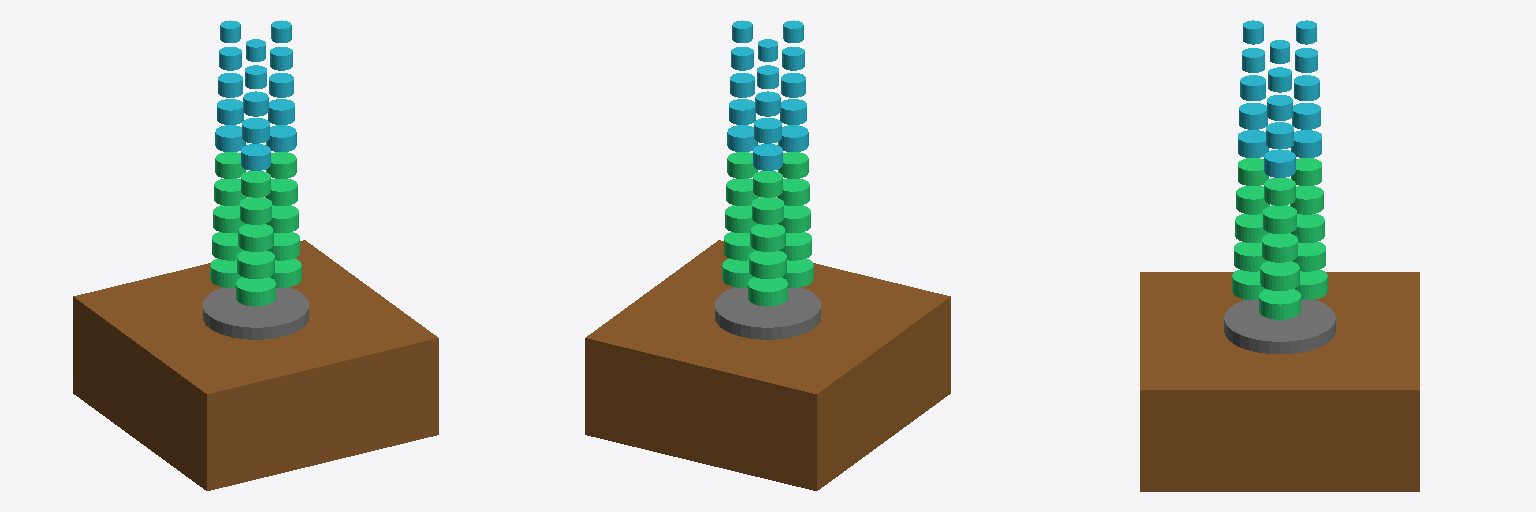
--- What the picture shows (computed from the rendered views, not written in the file) ---
3 views of the same robot in one strip: view 1: azimuth 30°, elevation 25°; view 2: azimuth 150°, elevation 25°; view 3: azimuth 270°, elevation 25° (orthographic).
Model two_segment_gripper with 65 links and 64 joints (30 revolute, 34 fixed), rooted at base_link, posed every joint at zero.
Visible links, largest first — view 1: base_link, gripper_base, finger3_seg1_disc, finger3_seg2_disc, finger3_seg3_disc, finger3_seg4_disc, finger3_seg5_disc, finger3_seg6_disc, finger1_seg1_disc, finger2_seg1_disc, finger1_seg3_disc, finger2_seg3_disc (+14 smaller); view 2: base_link, gripper_base, finger2_seg1_disc, finger2_seg2_disc, finger2_seg3_disc, finger2_seg4_disc, finger2_seg5_disc, finger2_seg6_disc, finger1_seg1_disc, finger3_seg1_disc, finger1_seg3_disc, finger3_seg3_disc (+14 smaller); view 3: base_link, gripper_base, finger1_seg1_disc, finger1_seg2_disc, finger1_seg3_disc, finger1_seg4_disc, finger1_seg6_disc, finger1_seg5_disc, finger2_seg2_disc, finger3_seg2_disc, finger2_seg3_disc, finger3_seg3_disc (+17 smaller).
Link boxes in pixels (left/top/right/bottom): base_link: left=73, top=240, right=438, bottom=490; gripper_base: left=203, top=287, right=308, bottom=339; finger3_seg1_disc: left=236, top=277, right=275, bottom=306; finger3_seg2_disc: left=237, top=251, right=274, bottom=278; finger3_seg3_disc: left=238, top=224, right=273, bottom=251; finger3_seg4_disc: left=240, top=197, right=271, bottom=224; finger3_seg5_disc: left=241, top=171, right=270, bottom=197; finger3_seg6_disc: left=241, top=144, right=270, bottom=170; finger1_seg1_disc: left=270, top=258, right=301, bottom=287; finger2_seg1_disc: left=210, top=258, right=241, bottom=287; finger1_seg3_disc: left=266, top=205, right=298, bottom=232; finger2_seg3_disc: left=213, top=205, right=245, bottom=232; base_link: left=585, top=240, right=950, bottom=490; gripper_base: left=715, top=287, right=820, bottom=339; finger2_seg1_disc: left=748, top=277, right=787, bottom=306; finger2_seg2_disc: left=749, top=251, right=786, bottom=278; finger2_seg3_disc: left=750, top=224, right=785, bottom=251; finger2_seg4_disc: left=752, top=197, right=783, bottom=224; finger2_seg5_disc: left=753, top=171, right=782, bottom=197; finger2_seg6_disc: left=753, top=144, right=782, bottom=170; finger1_seg1_disc: left=722, top=258, right=753, bottom=287; finger3_seg1_disc: left=782, top=258, right=813, bottom=287; finger1_seg3_disc: left=725, top=205, right=757, bottom=232; finger3_seg3_disc: left=778, top=205, right=810, bottom=232; base_link: left=1140, top=272, right=1419, bottom=491; gripper_base: left=1224, top=300, right=1335, bottom=353; finger1_seg1_disc: left=1259, top=289, right=1300, bottom=319; finger1_seg2_disc: left=1260, top=261, right=1299, bottom=290; finger1_seg3_disc: left=1262, top=233, right=1297, bottom=262; finger1_seg4_disc: left=1263, top=205, right=1296, bottom=233; finger1_seg6_disc: left=1264, top=149, right=1295, bottom=177; finger1_seg5_disc: left=1264, top=178, right=1295, bottom=205; finger2_seg2_disc: left=1293, top=242, right=1325, bottom=271; finger3_seg2_disc: left=1234, top=242, right=1266, bottom=271; finger2_seg3_disc: left=1291, top=214, right=1324, bottom=242; finger3_seg3_disc: left=1235, top=214, right=1268, bottom=242.
Bounding box of the posed robot: 0.2 × 0.2 × 0.316 m (x, y, z).
Geometry: primitives only (box / cylinder / sphere), no mesh files.

The robot description file, URDF, robot "two_segment_gripper":
<?xml version="1.0" ?>
<!-- =================================================================================== -->
<!-- |    This document was autogenerated by xacro from two_segment_gripper.xacro      | -->
<!-- |    EDITING THIS FILE BY HAND IS NOT RECOMMENDED                                 | -->
<!-- =================================================================================== -->
<robot name="two_segment_gripper">
  <!-- 12mm disc thickness -->
  <!-- 22mm from center -->
  <!-- Base Link -->
  <link name="base_link">
    <visual>
      <origin rpy="0 0 0" xyz="0 0 0.04"/>
      <geometry>
        <box size="0.2 0.2 0.08"/>
      </geometry>
      <material name="brown">
        <color rgba="0.6 0.4 0.2 1.0"/>
      </material>
    </visual>
    <collision>
      <origin rpy="0 0 0" xyz="0 0 0.04"/>
      <geometry>
        <box size="0.2 0.2 0.08"/>
      </geometry>
    </collision>
    <inertial>
      <origin rpy="0 0 0" xyz="0 0 0.04"/>
      <mass value="2.0"/>
      <inertia ixx="0.01" ixy="0" ixz="0" iyy="0.01" iyz="0" izz="0.01"/>
    </inertial>
  </link>
  <!-- Gripper Base -->
  <joint name="base_to_gripper" type="fixed">
    <parent link="base_link"/>
    <child link="gripper_base"/>
    <origin rpy="0 0 0" xyz="0 0 0.08"/>
  </joint>
  <link name="gripper_base">
    <visual>
      <origin rpy="0 0 0" xyz="0 0 0.005"/>
      <geometry>
        <cylinder length="0.01" radius="0.04"/>
      </geometry>
      <material name="gray">
        <color rgba="0.5 0.5 0.5 1.0"/>
      </material>
    </visual>
    <inertial>
      <mass value="0.2"/>
      <inertia ixx="0.0001" ixy="0" ixz="0" iyy="0.0001" iyz="0" izz="0.0001"/>
    </inertial>
  </link>
  <!-- ===== FINGER 1 (at 0°) ===== -->
  <joint name="finger1_mount" type="fixed">
    <parent link="gripper_base"/>
    <child link="finger1_base"/>
    <origin rpy="0 0 0" xyz="0.022 0 0.01"/>
  </joint>
  <link name="finger1_base">
    <inertial>
      <mass value="0.01"/>
      <inertia ixx="0.00001" ixy="0" ixz="0" iyy="0.00001" iyz="0" izz="0.00001"/>
    </inertial>
  </link>
  <!-- Revolute Joint -->
  <joint name="finger1_seg1_joint" type="revolute">
    <parent link="finger1_base"/>
    <child link="finger1_seg1_link"/>
    <origin rpy="0 0 0" xyz="0 0 0"/>
    <axis xyz="0 1 0"/>
    <limit effort="50" lower="-0.0175" upper="0.2094" velocity="1.0"/>
    <dynamics damping="0.5" friction="0.0"/>
  </joint>
  <link name="finger1_seg1_link">
    <inertial>
      <origin rpy="0 0 0" xyz="0 0 0"/>
      <mass value="0.01"/>
      <inertia ixx="0.00001" ixy="0" ixz="0" iyy="0.00001" iyz="0" izz="0.00001"/>
    </inertial>
  </link>
  <!-- Fixed H distance to disc -->
  <joint name="finger1_seg1_fixed" type="fixed">
    <parent link="finger1_seg1_link"/>
    <child link="finger1_seg1_disc"/>
    <origin rpy="0 0 0" xyz="0 0 0.022"/>
  </joint>
  <!-- Disc -->
  <link name="finger1_seg1_disc">
    <visual>
      <origin rpy="0 0 0" xyz="0 0 0"/>
      <geometry>
        <cylinder length="0.012" radius="0.015"/>
      </geometry>
      <material name="finger_seg1_mat">
        <color rgba="0.2 0.9 0.5 1.0"/>
      </material>
    </visual>
    <collision>
      <origin rpy="0 0 0" xyz="0 0 0"/>
      <geometry>
        <cylinder length="0.012" radius="0.015"/>
      </geometry>
    </collision>
    <inertial>
      <origin rpy="0 0 0" xyz="0 0 0"/>
      <mass value="0.1"/>
      <inertia ixx="0.0001" ixy="0" ixz="0" iyy="0.0001" iyz="0" izz="0.0001"/>
    </inertial>
  </link>
  <!-- Revolute Joint -->
  <joint name="finger1_seg2_joint" type="revolute">
    <parent link="finger1_seg1_disc"/>
    <child link="finger1_seg2_link"/>
    <origin rpy="0 0 0" xyz="0 0 0"/>
    <axis xyz="0 1 0"/>
    <limit effort="50" lower="-0.0175" upper="0.2094" velocity="1.0"/>
    <mimic joint="finger1_seg1_joint" multiplier="1.0" offset="0.0"/>
    <dynamics damping="0.1" friction="0.0"/>
  </joint>
  <link name="finger1_seg2_link">
    <inertial>
      <origin rpy="0 0 0" xyz="0 0 0"/>
      <mass value="0.01"/>
      <inertia ixx="0.00001" ixy="0" ixz="0" iyy="0.00001" iyz="0" izz="0.00001"/>
    </inertial>
  </link>
  <!-- Fixed H distance to disc -->
  <joint name="finger1_seg2_fixed" type="fixed">
    <parent link="finger1_seg2_link"/>
    <child link="finger1_seg2_disc"/>
    <origin rpy="0 0 0" xyz="0 0 0.022"/>
  </joint>
  <!-- Disc -->
  <link name="finger1_seg2_disc">
    <visual>
      <origin rpy="0 0 0" xyz="0 0 0"/>
      <geometry>
        <cylinder length="0.012" radius="0.014062499999999999"/>
      </geometry>
      <material name="finger_seg2_mat">
        <color rgba="0.2 0.9 0.5 1.0"/>
      </material>
    </visual>
    <collision>
      <origin rpy="0 0 0" xyz="0 0 0"/>
      <geometry>
        <cylinder length="0.012" radius="0.014062499999999999"/>
      </geometry>
    </collision>
    <inertial>
      <origin rpy="0 0 0" xyz="0 0 0"/>
      <mass value="0.1"/>
      <inertia ixx="0.0001" ixy="0" ixz="0" iyy="0.0001" iyz="0" izz="0.0001"/>
    </inertial>
  </link>
  <!-- Revolute Joint -->
  <joint name="finger1_seg3_joint" type="revolute">
    <parent link="finger1_seg2_disc"/>
    <child link="finger1_seg3_link"/>
    <origin rpy="0 0 0" xyz="0 0 0"/>
    <axis xyz="0 1 0"/>
    <limit effort="50" lower="-0.0175" upper="0.2094" velocity="1.0"/>
    <mimic joint="finger1_seg1_joint" multiplier="1.0" offset="0.0"/>
    <dynamics damping="0.1" friction="0.0"/>
  </joint>
  <link name="finger1_seg3_link">
    <inertial>
      <origin rpy="0 0 0" xyz="0 0 0"/>
      <mass value="0.01"/>
      <inertia ixx="0.00001" ixy="0" ixz="0" iyy="0.00001" iyz="0" izz="0.00001"/>
    </inertial>
  </link>
  <!-- Fixed H distance to disc -->
  <joint name="finger1_seg3_fixed" type="fixed">
    <parent link="finger1_seg3_link"/>
    <child link="finger1_seg3_disc"/>
    <origin rpy="0 0 0" xyz="0 0 0.022"/>
  </joint>
  <!-- Disc -->
  <link name="finger1_seg3_disc">
    <visual>
      <origin rpy="0 0 0" xyz="0 0 0"/>
      <geometry>
        <cylinder length="0.012" radius="0.013125"/>
      </geometry>
      <material name="finger_seg3_mat">
        <color rgba="0.2 0.9 0.5 1.0"/>
      </material>
    </visual>
    <collision>
      <origin rpy="0 0 0" xyz="0 0 0"/>
      <geometry>
        <cylinder length="0.012" radius="0.013125"/>
      </geometry>
    </collision>
    <inertial>
      <origin rpy="0 0 0" xyz="0 0 0"/>
      <mass value="0.1"/>
      <inertia ixx="0.0001" ixy="0" ixz="0" iyy="0.0001" iyz="0" izz="0.0001"/>
    </inertial>
  </link>
  <!-- Revolute Joint -->
  <joint name="finger1_seg4_joint" type="revolute">
    <parent link="finger1_seg3_disc"/>
    <child link="finger1_seg4_link"/>
    <origin rpy="0 0 0" xyz="0 0 0"/>
    <axis xyz="0 1 0"/>
    <limit effort="50" lower="-0.0175" upper="0.2094" velocity="1.0"/>
    <mimic joint="finger1_seg1_joint" multiplier="1.0" offset="0.0"/>
    <dynamics damping="0.1" friction="0.0"/>
  </joint>
  <link name="finger1_seg4_link">
    <inertial>
      <origin rpy="0 0 0" xyz="0 0 0"/>
      <mass value="0.01"/>
      <inertia ixx="0.00001" ixy="0" ixz="0" iyy="0.00001" iyz="0" izz="0.00001"/>
    </inertial>
  </link>
  <!-- Fixed H distance to disc -->
  <joint name="finger1_seg4_fixed" type="fixed">
    <parent link="finger1_seg4_link"/>
    <child link="finger1_seg4_disc"/>
    <origin rpy="0 0 0" xyz="0 0 0.022"/>
  </joint>
  <!-- Disc -->
  <link name="finger1_seg4_disc">
    <visual>
      <origin rpy="0 0 0" xyz="0 0 0"/>
      <geometry>
        <cylinder length="0.012" radius="0.0121875"/>
      </geometry>
      <material name="finger_seg4_mat">
        <color rgba="0.2 0.9 0.5 1.0"/>
      </material>
    </visual>
    <collision>
      <origin rpy="0 0 0" xyz="0 0 0"/>
      <geometry>
        <cylinder length="0.012" radius="0.0121875"/>
      </geometry>
    </collision>
    <inertial>
      <origin rpy="0 0 0" xyz="0 0 0"/>
      <mass value="0.1"/>
      <inertia ixx="0.0001" ixy="0" ixz="0" iyy="0.0001" iyz="0" izz="0.0001"/>
    </inertial>
  </link>
  <!-- Revolute Joint -->
  <joint name="finger1_seg5_joint" type="revolute">
    <parent link="finger1_seg4_disc"/>
    <child link="finger1_seg5_link"/>
    <origin rpy="0 0 0" xyz="0 0 0"/>
    <axis xyz="0 1 0"/>
    <limit effort="50" lower="-0.0175" upper="0.2094" velocity="1.0"/>
    <mimic joint="finger1_seg1_joint" multiplier="1.0" offset="0.0"/>
    <dynamics damping="0.1" friction="0.0"/>
  </joint>
  <link name="finger1_seg5_link">
    <inertial>
      <origin rpy="0 0 0" xyz="0 0 0"/>
      <mass value="0.01"/>
      <inertia ixx="0.00001" ixy="0" ixz="0" iyy="0.00001" iyz="0" izz="0.00001"/>
    </inertial>
  </link>
  <!-- Fixed H distance to disc -->
  <joint name="finger1_seg5_fixed" type="fixed">
    <parent link="finger1_seg5_link"/>
    <child link="finger1_seg5_disc"/>
    <origin rpy="0 0 0" xyz="0 0 0.022"/>
  </joint>
  <!-- Disc -->
  <link name="finger1_seg5_disc">
    <visual>
      <origin rpy="0 0 0" xyz="0 0 0"/>
      <geometry>
        <cylinder length="0.012" radius="0.01125"/>
      </geometry>
      <material name="finger_seg5_mat">
        <color rgba="0.2 0.9 0.5 1.0"/>
      </material>
    </visual>
    <collision>
      <origin rpy="0 0 0" xyz="0 0 0"/>
      <geometry>
        <cylinder length="0.012" radius="0.01125"/>
      </geometry>
    </collision>
    <inertial>
      <origin rpy="0 0 0" xyz="0 0 0"/>
      <mass value="0.1"/>
      <inertia ixx="0.0001" ixy="0" ixz="0" iyy="0.0001" iyz="0" izz="0.0001"/>
    </inertial>
  </link>
  <!-- Revolute Joint -->
  <joint name="finger1_seg6_joint" type="revolute">
    <parent link="finger1_seg5_disc"/>
    <child link="finger1_seg6_link"/>
    <origin rpy="0 0 0" xyz="0 0 0"/>
    <axis xyz="0 1 0"/>
    <limit effort="50" lower="-0.1047" upper="0.2094" velocity="1.0"/>
    <dynamics damping="0.5" friction="0.0"/>
  </joint>
  <link name="finger1_seg6_link">
    <inertial>
      <origin rpy="0 0 0" xyz="0 0 0"/>
      <mass value="0.01"/>
      <inertia ixx="0.00001" ixy="0" ixz="0" iyy="0.00001" iyz="0" izz="0.00001"/>
    </inertial>
  </link>
  <!-- Fixed H distance to disc -->
  <joint name="finger1_seg6_fixed" type="fixed">
    <parent link="finger1_seg6_link"/>
    <child link="finger1_seg6_disc"/>
    <origin rpy="0 0 0" xyz="0 0 0.022"/>
  </joint>
  <!-- Disc -->
  <link name="finger1_seg6_disc">
    <visual>
      <origin rpy="0 0 0" xyz="0 0 0"/>
      <geometry>
        <cylinder length="0.012" radius="0.01125"/>
      </geometry>
      <material name="finger_seg6_mat">
        <color rgba="0.2 0.8 0.9 1.0"/>
      </material>
    </visual>
    <collision>
      <origin rpy="0 0 0" xyz="0 0 0"/>
      <geometry>
        <cylinder length="0.012" radius="0.01125"/>
      </geometry>
    </collision>
    <inertial>
      <origin rpy="0 0 0" xyz="0 0 0"/>
      <mass value="0.1"/>
      <inertia ixx="0.0001" ixy="0" ixz="0" iyy="0.0001" iyz="0" izz="0.0001"/>
    </inertial>
  </link>
  <!-- Revolute Joint -->
  <joint name="finger1_seg7_joint" type="revolute">
    <parent link="finger1_seg6_disc"/>
    <child link="finger1_seg7_link"/>
    <origin rpy="0 0 0" xyz="0 0 0"/>
    <axis xyz="0 1 0"/>
    <limit effort="50" lower="-0.1047" upper="0.2094" velocity="1.0"/>
    <mimic joint="finger1_seg6_joint" multiplier="1.0" offset="0.0"/>
    <dynamics damping="0.1" friction="0.0"/>
  </joint>
  <link name="finger1_seg7_link">
    <inertial>
      <origin rpy="0 0 0" xyz="0 0 0"/>
      <mass value="0.01"/>
      <inertia ixx="0.00001" ixy="0" ixz="0" iyy="0.00001" iyz="0" izz="0.00001"/>
    </inertial>
  </link>
  <!-- Fixed H distance to disc -->
  <joint name="finger1_seg7_fixed" type="fixed">
    <parent link="finger1_seg7_link"/>
    <child link="finger1_seg7_disc"/>
    <origin rpy="0 0 0" xyz="0 0 0.022"/>
  </joint>
  <!-- Disc -->
  <link name="finger1_seg7_disc">
    <visual>
      <origin rpy="0 0 0" xyz="0 0 0"/>
      <geometry>
        <cylinder length="0.012" radius="0.010312499999999999"/>
      </geometry>
      <material name="finger_seg7_mat">
        <color rgba="0.2 0.8 0.9 1.0"/>
      </material>
    </visual>
    <collision>
      <origin rpy="0 0 0" xyz="0 0 0"/>
      <geometry>
        <cylinder length="0.012" radius="0.010312499999999999"/>
      </geometry>
    </collision>
    <inertial>
      <origin rpy="0 0 0" xyz="0 0 0"/>
      <mass value="0.1"/>
      <inertia ixx="0.0001" ixy="0" ixz="0" iyy="0.0001" iyz="0" izz="0.0001"/>
    </inertial>
  </link>
  <!-- Revolute Joint -->
  <joint name="finger1_seg8_joint" type="revolute">
    <parent link="finger1_seg7_disc"/>
    <child link="finger1_seg8_link"/>
    <origin rpy="0 0 0" xyz="0 0 0"/>
    <axis xyz="0 1 0"/>
    <limit effort="50" lower="-0.1047" upper="0.2094" velocity="1.0"/>
    <mimic joint="finger1_seg6_joint" multiplier="1.0" offset="0.0"/>
    <dynamics damping="0.1" friction="0.0"/>
  </joint>
  <link name="finger1_seg8_link">
    <inertial>
      <origin rpy="0 0 0" xyz="0 0 0"/>
      <mass value="0.01"/>
      <inertia ixx="0.00001" ixy="0" ixz="0" iyy="0.00001" iyz="0" izz="0.00001"/>
    </inertial>
  </link>
  <!-- Fixed H distance to disc -->
  <joint name="finger1_seg8_fixed" type="fixed">
    <parent link="finger1_seg8_link"/>
    <child link="finger1_seg8_disc"/>
    <origin rpy="0 0 0" xyz="0 0 0.022"/>
  </joint>
  <!-- Disc -->
  <link name="finger1_seg8_disc">
    <visual>
      <origin rpy="0 0 0" xyz="0 0 0"/>
      <geometry>
        <cylinder length="0.012" radius="0.009375"/>
      </geometry>
      <material name="finger_seg8_mat">
        <color rgba="0.2 0.8 0.9 1.0"/>
      </material>
    </visual>
    <collision>
      <origin rpy="0 0 0" xyz="0 0 0"/>
      <geometry>
        <cylinder length="0.012" radius="0.009375"/>
      </geometry>
    </collision>
    <inertial>
      <origin rpy="0 0 0" xyz="0 0 0"/>
      <mass value="0.1"/>
      <inertia ixx="0.0001" ixy="0" ixz="0" iyy="0.0001" iyz="0" izz="0.0001"/>
    </inertial>
  </link>
  <!-- Revolute Joint -->
  <joint name="finger1_seg9_joint" type="revolute">
    <parent link="finger1_seg8_disc"/>
    <child link="finger1_seg9_link"/>
    <origin rpy="0 0 0" xyz="0 0 0"/>
    <axis xyz="0 1 0"/>
    <limit effort="50" lower="-0.1047" upper="0.2094" velocity="1.0"/>
    <mimic joint="finger1_seg6_joint" multiplier="1.0" offset="0.0"/>
    <dynamics damping="0.1" friction="0.0"/>
  </joint>
  <link name="finger1_seg9_link">
    <inertial>
      <origin rpy="0 0 0" xyz="0 0 0"/>
      <mass value="0.01"/>
      <inertia ixx="0.00001" ixy="0" ixz="0" iyy="0.00001" iyz="0" izz="0.00001"/>
    </inertial>
  </link>
  <!-- Fixed H distance to disc -->
  <joint name="finger1_seg9_fixed" type="fixed">
    <parent link="finger1_seg9_link"/>
    <child link="finger1_seg9_disc"/>
    <origin rpy="0 0 0" xyz="0 0 0.022"/>
  </joint>
  <!-- Disc -->
  <link name="finger1_seg9_disc">
    <visual>
      <origin rpy="0 0 0" xyz="0 0 0"/>
      <geometry>
        <cylinder length="0.012" radius="0.0084375"/>
      </geometry>
      <material name="finger_seg9_mat">
        <color rgba="0.2 0.8 0.9 1.0"/>
      </material>
    </visual>
    <collision>
      <origin rpy="0 0 0" xyz="0 0 0"/>
      <geometry>
        <cylinder length="0.012" radius="0.0084375"/>
      </geometry>
    </collision>
    <inertial>
      <origin rpy="0 0 0" xyz="0 0 0"/>
      <mass value="0.1"/>
      <inertia ixx="0.0001" ixy="0" ixz="0" iyy="0.0001" iyz="0" izz="0.0001"/>
    </inertial>
  </link>
  <!-- Revolute Joint -->
  <joint name="finger1_seg10_joint" type="revolute">
    <parent link="finger1_seg9_disc"/>
    <child link="finger1_seg10_link"/>
    <origin rpy="0 0 0" xyz="0 0 0"/>
    <axis xyz="0 1 0"/>
    <limit effort="50" lower="-0.1047" upper="0.2094" velocity="1.0"/>
    <mimic joint="finger1_seg6_joint" multiplier="1.0" offset="0.0"/>
    <dynamics damping="0.1" friction="0.0"/>
  </joint>
  <link name="finger1_seg10_link">
    <inertial>
      <origin rpy="0 0 0" xyz="0 0 0"/>
      <mass value="0.01"/>
      <inertia ixx="0.00001" ixy="0" ixz="0" iyy="0.00001" iyz="0" izz="0.00001"/>
    </inertial>
  </link>
  <!-- Fixed H distance to disc -->
  <joint name="finger1_seg10_fixed" type="fixed">
    <parent link="finger1_seg10_link"/>
    <child link="finger1_seg10_disc"/>
    <origin rpy="0 0 0" xyz="0 0 0.022"/>
  </joint>
  <!-- Disc -->
  <link name="finger1_seg10_disc">
    <visual>
      <origin rpy="0 0 0" xyz="0 0 0"/>
      <geometry>
        <cylinder length="0.012" radius="0.0075"/>
      </geometry>
      <material name="finger_seg10_mat">
        <color rgba="0.2 0.8 0.9 1.0"/>
      </material>
    </visual>
    <collision>
      <origin rpy="0 0 0" xyz="0 0 0"/>
      <geometry>
        <cylinder length="0.012" radius="0.0075"/>
      </geometry>
    </collision>
    <inertial>
      <origin rpy="0 0 0" xyz="0 0 0"/>
      <mass value="0.1"/>
      <inertia ixx="0.0001" ixy="0" ixz="0" iyy="0.0001" iyz="0" izz="0.0001"/>
    </inertial>
  </link>
  <!-- ===== FINGER 2 (at 120°) ===== -->
  <joint name="finger2_mount" type="fixed">
    <parent link="gripper_base"/>
    <child link="finger2_base"/>
    <origin rpy="0 0 2.0944" xyz="-0.0110000933118101 0.0190525050093543 0.01"/>
  </joint>
  <link name="finger2_base">
    <inertial>
      <mass value="0.01"/>
      <inertia ixx="0.00001" ixy="0" ixz="0" iyy="0.00001" iyz="0" izz="0.00001"/>
    </inertial>
  </link>
  <!-- Revolute Joint -->
  <joint name="finger2_seg1_joint" type="revolute">
    <parent link="finger2_base"/>
    <child link="finger2_seg1_link"/>
    <origin rpy="0 0 0" xyz="0 0 0"/>
    <axis xyz="0 1 0"/>
    <limit effort="50" lower="-0.0175" upper="0.2094" velocity="1.0"/>
    <mimic joint="finger1_seg1_joint" multiplier="1.0" offset="0.0"/>
    <dynamics damping="0.1" friction="0.0"/>
  </joint>
  <link name="finger2_seg1_link">
    <inertial>
      <origin rpy="0 0 0" xyz="0 0 0"/>
      <mass value="0.01"/>
      <inertia ixx="0.00001" ixy="0" ixz="0" iyy="0.00001" iyz="0" izz="0.00001"/>
    </inertial>
  </link>
  <!-- Fixed H distance to disc -->
  <joint name="finger2_seg1_fixed" type="fixed">
    <parent link="finger2_seg1_link"/>
    <child link="finger2_seg1_disc"/>
    <origin rpy="0 0 0" xyz="0 0 0.022"/>
  </joint>
  <!-- Disc -->
  <link name="finger2_seg1_disc">
    <visual>
      <origin rpy="0 0 0" xyz="0 0 0"/>
      <geometry>
        <cylinder length="0.012" radius="0.015"/>
      </geometry>
      <material name="finger_seg1_mat">
        <color rgba="0.2 0.9 0.5 1.0"/>
      </material>
    </visual>
    <collision>
      <origin rpy="0 0 0" xyz="0 0 0"/>
      <geometry>
        <cylinder length="0.012" radius="0.015"/>
      </geometry>
    </collision>
    <inertial>
      <origin rpy="0 0 0" xyz="0 0 0"/>
      <mass value="0.1"/>
      <inertia ixx="0.0001" ixy="0" ixz="0" iyy="0.0001" iyz="0" izz="0.0001"/>
    </inertial>
  </link>
  <!-- Revolute Joint -->
  <joint name="finger2_seg2_joint" type="revolute">
    <parent link="finger2_seg1_disc"/>
    <child link="finger2_seg2_link"/>
    <origin rpy="0 0 0" xyz="0 0 0"/>
    <axis xyz="0 1 0"/>
    <limit effort="50" lower="-0.0175" upper="0.2094" velocity="1.0"/>
    <mimic joint="finger1_seg1_joint" multiplier="1.0" offset="0.0"/>
    <dynamics damping="0.1" friction="0.0"/>
  </joint>
  <link name="finger2_seg2_link">
    <inertial>
      <origin rpy="0 0 0" xyz="0 0 0"/>
      <mass value="0.01"/>
      <inertia ixx="0.00001" ixy="0" ixz="0" iyy="0.00001" iyz="0" izz="0.00001"/>
    </inertial>
  </link>
  <!-- Fixed H distance to disc -->
  <joint name="finger2_seg2_fixed" type="fixed">
    <parent link="finger2_seg2_link"/>
    <child link="finger2_seg2_disc"/>
    <origin rpy="0 0 0" xyz="0 0 0.022"/>
  </joint>
  <!-- Disc -->
  <link name="finger2_seg2_disc">
    <visual>
      <origin rpy="0 0 0" xyz="0 0 0"/>
      <geometry>
        <cylinder length="0.012" radius="0.014062499999999999"/>
      </geometry>
      <material name="finger_seg2_mat">
        <color rgba="0.2 0.9 0.5 1.0"/>
      </material>
    </visual>
    <collision>
      <origin rpy="0 0 0" xyz="0 0 0"/>
      <geometry>
        <cylinder length="0.012" radius="0.014062499999999999"/>
      </geometry>
    </collision>
    <inertial>
      <origin rpy="0 0 0" xyz="0 0 0"/>
      <mass value="0.1"/>
      <inertia ixx="0.0001" ixy="0" ixz="0" iyy="0.0001" iyz="0" izz="0.0001"/>
    </inertial>
  </link>
  <!-- Revolute Joint -->
  <joint name="finger2_seg3_joint" type="revolute">
    <parent link="finger2_seg2_disc"/>
    <child link="finger2_seg3_link"/>
    <origin rpy="0 0 0" xyz="0 0 0"/>
    <axis xyz="0 1 0"/>
    <limit effort="50" lower="-0.0175" upper="0.2094" velocity="1.0"/>
    <mimic joint="finger1_seg1_joint" multiplier="1.0" offset="0.0"/>
    <dynamics damping="0.1" friction="0.0"/>
  </joint>
  <link name="finger2_seg3_link">
    <inertial>
      <origin rpy="0 0 0" xyz="0 0 0"/>
      <mass value="0.01"/>
      <inertia ixx="0.00001" ixy="0" ixz="0" iyy="0.00001" iyz="0" izz="0.00001"/>
    </inertial>
  </link>
  <!-- Fixed H distance to disc -->
  <joint name="finger2_seg3_fixed" type="fixed">
    <parent link="finger2_seg3_link"/>
    <child link="finger2_seg3_disc"/>
    <origin rpy="0 0 0" xyz="0 0 0.022"/>
  </joint>
  <!-- Disc -->
  <link name="finger2_seg3_disc">
    <visual>
      <origin rpy="0 0 0" xyz="0 0 0"/>
      <geometry>
        <cylinder length="0.012" radius="0.013125"/>
      </geometry>
      <material name="finger_seg3_mat">
        <color rgba="0.2 0.9 0.5 1.0"/>
      </material>
    </visual>
    <collision>
      <origin rpy="0 0 0" xyz="0 0 0"/>
      <geometry>
        <cylinder length="0.012" radius="0.013125"/>
      </geometry>
    </collision>
    <inertial>
      <origin rpy="0 0 0" xyz="0 0 0"/>
      <mass value="0.1"/>
      <inertia ixx="0.0001" ixy="0" ixz="0" iyy="0.0001" iyz="0" izz="0.0001"/>
    </inertial>
  </link>
  <!-- Revolute Joint -->
  <joint name="finger2_seg4_joint" type="revolute">
    <parent link="finger2_seg3_disc"/>
    <child link="finger2_seg4_link"/>
    <origin rpy="0 0 0" xyz="0 0 0"/>
    <axis xyz="0 1 0"/>
    <limit effort="50" lower="-0.0175" upper="0.2094" velocity="1.0"/>
    <mimic joint="finger1_seg1_joint" multiplier="1.0" offset="0.0"/>
    <dynamics damping="0.1" friction="0.0"/>
  </joint>
  <link name="finger2_seg4_link">
    <inertial>
      <origin rpy="0 0 0" xyz="0 0 0"/>
      <mass value="0.01"/>
      <inertia ixx="0.00001" ixy="0" ixz="0" iyy="0.00001" iyz="0" izz="0.00001"/>
    </inertial>
  </link>
  <!-- Fixed H distance to disc -->
  <joint name="finger2_seg4_fixed" type="fixed">
    <parent link="finger2_seg4_link"/>
    <child link="finger2_seg4_disc"/>
    <origin rpy="0 0 0" xyz="0 0 0.022"/>
  </joint>
  <!-- Disc -->
  <link name="finger2_seg4_disc">
    <visual>
      <origin rpy="0 0 0" xyz="0 0 0"/>
      <geometry>
        <cylinder length="0.012" radius="0.0121875"/>
      </geometry>
      <material name="finger_seg4_mat">
        <color rgba="0.2 0.9 0.5 1.0"/>
      </material>
    </visual>
    <collision>
      <origin rpy="0 0 0" xyz="0 0 0"/>
      <geometry>
        <cylinder length="0.012" radius="0.0121875"/>
      </geometry>
    </collision>
    <inertial>
      <origin rpy="0 0 0" xyz="0 0 0"/>
      <mass value="0.1"/>
      <inertia ixx="0.0001" ixy="0" ixz="0" iyy="0.0001" iyz="0" izz="0.0001"/>
    </inertial>
  </link>
  <!-- Revolute Joint -->
  <joint name="finger2_seg5_joint" type="revolute">
    <parent link="finger2_seg4_disc"/>
    <child link="finger2_seg5_link"/>
    <origin rpy="0 0 0" xyz="0 0 0"/>
    <axis xyz="0 1 0"/>
    <limit effort="50" lower="-0.0175" upper="0.2094" velocity="1.0"/>
    <mimic joint="finger1_seg1_joint" multiplier="1.0" offset="0.0"/>
    <dynamics damping="0.1" friction="0.0"/>
  </joint>
  <link name="finger2_seg5_link">
    <inertial>
      <origin rpy="0 0 0" xyz="0 0 0"/>
      <mass value="0.01"/>
      <inertia ixx="0.00001" ixy="0" ixz="0" iyy="0.00001" iyz="0" izz="0.00001"/>
    </inertial>
  </link>
  <!-- Fixed H distance to disc -->
  <joint name="finger2_seg5_fixed" type="fixed">
    <parent link="finger2_seg5_link"/>
    <child link="finger2_seg5_disc"/>
    <origin rpy="0 0 0" xyz="0 0 0.022"/>
  </joint>
  <!-- Disc -->
  <link name="finger2_seg5_disc">
    <visual>
      <origin rpy="0 0 0" xyz="0 0 0"/>
      <geometry>
        <cylinder length="0.012" radius="0.01125"/>
      </geometry>
      <material name="finger_seg5_mat">
        <color rgba="0.2 0.9 0.5 1.0"/>
      </material>
    </visual>
    <collision>
      <origin rpy="0 0 0" xyz="0 0 0"/>
      <geometry>
        <cylinder length="0.012" radius="0.01125"/>
      </geometry>
    </collision>
    <inertial>
      <origin rpy="0 0 0" xyz="0 0 0"/>
      <mass value="0.1"/>
      <inertia ixx="0.0001" ixy="0" ixz="0" iyy="0.0001" iyz="0" izz="0.0001"/>
    </inertial>
  </link>
  <!-- Revolute Joint -->
  <joint name="finger2_seg6_joint" type="revolute">
    <parent link="finger2_seg5_disc"/>
    <child link="finger2_seg6_link"/>
    <origin rpy="0 0 0" xyz="0 0 0"/>
    <axis xyz="0 1 0"/>
    <limit effort="50" lower="-0.1047" upper="0.2094" velocity="1.0"/>
    <mimic joint="finger1_seg6_joint" multiplier="1.0" offset="0.0"/>
    <dynamics damping="0.1" friction="0.0"/>
  </joint>
  <link name="finger2_seg6_link">
    <inertial>
      <origin rpy="0 0 0" xyz="0 0 0"/>
      <mass value="0.01"/>
      <inertia ixx="0.00001" ixy="0" ixz="0" iyy="0.00001" iyz="0" izz="0.00001"/>
    </inertial>
  </link>
  <!-- Fixed H distance to disc -->
  <joint name="finger2_seg6_fixed" type="fixed">
    <parent link="finger2_seg6_link"/>
    <child link="finger2_seg6_disc"/>
    <origin rpy="0 0 0" xyz="0 0 0.022"/>
  </joint>
  <!-- Disc -->
  <link name="finger2_seg6_disc">
    <visual>
      <origin rpy="0 0 0" xyz="0 0 0"/>
      <geometry>
        <cylinder length="0.012" radius="0.01125"/>
      </geometry>
      <material name="finger_seg6_mat">
        <color rgba="0.2 0.8 0.9 1.0"/>
      </material>
    </visual>
    <collision>
      <origin rpy="0 0 0" xyz="0 0 0"/>
      <geometry>
        <cylinder length="0.012" radius="0.01125"/>
      </geometry>
    </collision>
    <inertial>
      <origin rpy="0 0 0" xyz="0 0 0"/>
      <mass value="0.1"/>
      <inertia ixx="0.0001" ixy="0" ixz="0" iyy="0.0001" iyz="0" izz="0.0001"/>
    </inertial>
  </link>
  <!-- Revolute Joint -->
  <joint name="finger2_seg7_joint" type="revolute">
    <parent link="finger2_seg6_disc"/>
    <child link="finger2_seg7_link"/>
    <origin rpy="0 0 0" xyz="0 0 0"/>
    <axis xyz="0 1 0"/>
    <limit effort="50" lower="-0.1047" upper="0.2094" velocity="1.0"/>
    <mimic joint="finger1_seg6_joint" multiplier="1.0" offset="0.0"/>
    <dynamics damping="0.1" friction="0.0"/>
  </joint>
  <link name="finger2_seg7_link">
    <inertial>
      <origin rpy="0 0 0" xyz="0 0 0"/>
      <mass value="0.01"/>
      <inertia ixx="0.00001" ixy="0" ixz="0" iyy="0.00001" iyz="0" izz="0.00001"/>
    </inertial>
  </link>
  <!-- Fixed H distance to disc -->
  <joint name="finger2_seg7_fixed" type="fixed">
    <parent link="finger2_seg7_link"/>
    <child link="finger2_seg7_disc"/>
    <origin rpy="0 0 0" xyz="0 0 0.022"/>
  </joint>
  <!-- Disc -->
  <link name="finger2_seg7_disc">
    <visual>
      <origin rpy="0 0 0" xyz="0 0 0"/>
      <geometry>
        <cylinder length="0.012" radius="0.010312499999999999"/>
      </geometry>
      <material name="finger_seg7_mat">
        <color rgba="0.2 0.8 0.9 1.0"/>
      </material>
    </visual>
    <collision>
      <origin rpy="0 0 0" xyz="0 0 0"/>
      <geometry>
        <cylinder length="0.012" radius="0.010312499999999999"/>
      </geometry>
    </collision>
    <inertial>
      <origin rpy="0 0 0" xyz="0 0 0"/>
      <mass value="0.1"/>
      <inertia ixx="0.0001" ixy="0" ixz="0" iyy="0.0001" iyz="0" izz="0.0001"/>
    </inertial>
  </link>
  <!-- Revolute Joint -->
  <joint name="finger2_seg8_joint" type="revolute">
    <parent link="finger2_seg7_disc"/>
    <child link="finger2_seg8_link"/>
    <origin rpy="0 0 0" xyz="0 0 0"/>
    <axis xyz="0 1 0"/>
    <limit effort="50" lower="-0.1047" upper="0.2094" velocity="1.0"/>
    <mimic joint="finger1_seg6_joint" multiplier="1.0" offset="0.0"/>
    <dynamics damping="0.1" friction="0.0"/>
  </joint>
  <link name="finger2_seg8_link">
    <inertial>
      <origin rpy="0 0 0" xyz="0 0 0"/>
      <mass value="0.01"/>
      <inertia ixx="0.00001" ixy="0" ixz="0" iyy="0.00001" iyz="0" izz="0.00001"/>
    </inertial>
  </link>
  <!-- Fixed H distance to disc -->
  <joint name="finger2_seg8_fixed" type="fixed">
    <parent link="finger2_seg8_link"/>
    <child link="finger2_seg8_disc"/>
    <origin rpy="0 0 0" xyz="0 0 0.022"/>
  </joint>
  <!-- Disc -->
  <link name="finger2_seg8_disc">
    <visual>
      <origin rpy="0 0 0" xyz="0 0 0"/>
      <geometry>
        <cylinder length="0.012" radius="0.009375"/>
      </geometry>
      <material name="finger_seg8_mat">
        <color rgba="0.2 0.8 0.9 1.0"/>
      </material>
    </visual>
    <collision>
      <origin rpy="0 0 0" xyz="0 0 0"/>
      <geometry>
        <cylinder length="0.012" radius="0.009375"/>
      </geometry>
    </collision>
    <inertial>
      <origin rpy="0 0 0" xyz="0 0 0"/>
      <mass value="0.1"/>
      <inertia ixx="0.0001" ixy="0" ixz="0" iyy="0.0001" iyz="0" izz="0.0001"/>
    </inertial>
  </link>
  <!-- Revolute Joint -->
  <joint name="finger2_seg9_joint" type="revolute">
    <parent link="finger2_seg8_disc"/>
    <child link="finger2_seg9_link"/>
    <origin rpy="0 0 0" xyz="0 0 0"/>
    <axis xyz="0 1 0"/>
    <limit effort="50" lower="-0.1047" upper="0.2094" velocity="1.0"/>
    <mimic joint="finger1_seg6_joint" multiplier="1.0" offset="0.0"/>
    <dynamics damping="0.1" friction="0.0"/>
  </joint>
  <link name="finger2_seg9_link">
    <inertial>
      <origin rpy="0 0 0" xyz="0 0 0"/>
      <mass value="0.01"/>
      <inertia ixx="0.00001" ixy="0" ixz="0" iyy="0.00001" iyz="0" izz="0.00001"/>
    </inertial>
  </link>
  <!-- Fixed H distance to disc -->
  <joint name="finger2_seg9_fixed" type="fixed">
    <parent link="finger2_seg9_link"/>
    <child link="finger2_seg9_disc"/>
    <origin rpy="0 0 0" xyz="0 0 0.022"/>
  </joint>
  <!-- Disc -->
  <link name="finger2_seg9_disc">
    <visual>
      <origin rpy="0 0 0" xyz="0 0 0"/>
      <geometry>
        <cylinder length="0.012" radius="0.0084375"/>
      </geometry>
      <material name="finger_seg9_mat">
        <color rgba="0.2 0.8 0.9 1.0"/>
      </material>
    </visual>
    <collision>
      <origin rpy="0 0 0" xyz="0 0 0"/>
      <geometry>
        <cylinder length="0.012" radius="0.0084375"/>
      </geometry>
    </collision>
    <inertial>
      <origin rpy="0 0 0" xyz="0 0 0"/>
      <mass value="0.1"/>
      <inertia ixx="0.0001" ixy="0" ixz="0" iyy="0.0001" iyz="0" izz="0.0001"/>
    </inertial>
  </link>
  <!-- Revolute Joint -->
  <joint name="finger2_seg10_joint" type="revolute">
    <parent link="finger2_seg9_disc"/>
    <child link="finger2_seg10_link"/>
    <origin rpy="0 0 0" xyz="0 0 0"/>
    <axis xyz="0 1 0"/>
    <limit effort="50" lower="-0.1047" upper="0.2094" velocity="1.0"/>
    <mimic joint="finger1_seg6_joint" multiplier="1.0" offset="0.0"/>
    <dynamics damping="0.1" friction="0.0"/>
  </joint>
  <link name="finger2_seg10_link">
    <inertial>
      <origin rpy="0 0 0" xyz="0 0 0"/>
      <mass value="0.01"/>
      <inertia ixx="0.00001" ixy="0" ixz="0" iyy="0.00001" iyz="0" izz="0.00001"/>
    </inertial>
  </link>
  <!-- Fixed H distance to disc -->
  <joint name="finger2_seg10_fixed" type="fixed">
    <parent link="finger2_seg10_link"/>
    <child link="finger2_seg10_disc"/>
    <origin rpy="0 0 0" xyz="0 0 0.022"/>
  </joint>
  <!-- Disc -->
  <link name="finger2_seg10_disc">
    <visual>
      <origin rpy="0 0 0" xyz="0 0 0"/>
      <geometry>
        <cylinder length="0.012" radius="0.0075"/>
      </geometry>
      <material name="finger_seg10_mat">
        <color rgba="0.2 0.8 0.9 1.0"/>
      </material>
    </visual>
    <collision>
      <origin rpy="0 0 0" xyz="0 0 0"/>
      <geometry>
        <cylinder length="0.012" radius="0.0075"/>
      </geometry>
    </collision>
    <inertial>
      <origin rpy="0 0 0" xyz="0 0 0"/>
      <mass value="0.1"/>
      <inertia ixx="0.0001" ixy="0" ixz="0" iyy="0.0001" iyz="0" izz="0.0001"/>
    </inertial>
  </link>
  <!-- ===== FINGER 3 (at 240°) ===== -->
  <joint name="finger3_mount" type="fixed">
    <parent link="gripper_base"/>
    <child link="finger3_base"/>
    <origin rpy="0 0 4.1888" xyz="-0.010999813375588245 -0.01905266662969333 0.01"/>
  </joint>
  <link name="finger3_base">
    <inertial>
      <mass value="0.01"/>
      <inertia ixx="0.00001" ixy="0" ixz="0" iyy="0.00001" iyz="0" izz="0.00001"/>
    </inertial>
  </link>
  <!-- Revolute Joint -->
  <joint name="finger3_seg1_joint" type="revolute">
    <parent link="finger3_base"/>
    <child link="finger3_seg1_link"/>
    <origin rpy="0 0 0" xyz="0 0 0"/>
    <axis xyz="0 1 0"/>
    <limit effort="50" lower="-0.0175" upper="0.2094" velocity="1.0"/>
    <mimic joint="finger1_seg1_joint" multiplier="1.0" offset="0.0"/>
    <dynamics damping="0.1" friction="0.0"/>
  </joint>
  <link name="finger3_seg1_link">
    <inertial>
      <origin rpy="0 0 0" xyz="0 0 0"/>
      <mass value="0.01"/>
      <inertia ixx="0.00001" ixy="0" ixz="0" iyy="0.00001" iyz="0" izz="0.00001"/>
    </inertial>
  </link>
  <!-- Fixed H distance to disc -->
  <joint name="finger3_seg1_fixed" type="fixed">
    <parent link="finger3_seg1_link"/>
    <child link="finger3_seg1_disc"/>
    <origin rpy="0 0 0" xyz="0 0 0.022"/>
  </joint>
  <!-- Disc -->
  <link name="finger3_seg1_disc">
    <visual>
      <origin rpy="0 0 0" xyz="0 0 0"/>
      <geometry>
        <cylinder length="0.012" radius="0.015"/>
      </geometry>
      <material name="finger_seg1_mat">
        <color rgba="0.2 0.9 0.5 1.0"/>
      </material>
    </visual>
    <collision>
      <origin rpy="0 0 0" xyz="0 0 0"/>
      <geometry>
        <cylinder length="0.012" radius="0.015"/>
      </geometry>
    </collision>
    <inertial>
      <origin rpy="0 0 0" xyz="0 0 0"/>
      <mass value="0.1"/>
      <inertia ixx="0.0001" ixy="0" ixz="0" iyy="0.0001" iyz="0" izz="0.0001"/>
    </inertial>
  </link>
  <!-- Revolute Joint -->
  <joint name="finger3_seg2_joint" type="revolute">
    <parent link="finger3_seg1_disc"/>
    <child link="finger3_seg2_link"/>
    <origin rpy="0 0 0" xyz="0 0 0"/>
    <axis xyz="0 1 0"/>
    <limit effort="50" lower="-0.0175" upper="0.2094" velocity="1.0"/>
    <mimic joint="finger1_seg1_joint" multiplier="1.0" offset="0.0"/>
    <dynamics damping="0.1" friction="0.0"/>
  </joint>
  <link name="finger3_seg2_link">
    <inertial>
      <origin rpy="0 0 0" xyz="0 0 0"/>
      <mass value="0.01"/>
      <inertia ixx="0.00001" ixy="0" ixz="0" iyy="0.00001" iyz="0" izz="0.00001"/>
    </inertial>
  </link>
  <!-- Fixed H distance to disc -->
  <joint name="finger3_seg2_fixed" type="fixed">
    <parent link="finger3_seg2_link"/>
    <child link="finger3_seg2_disc"/>
    <origin rpy="0 0 0" xyz="0 0 0.022"/>
  </joint>
  <!-- Disc -->
  <link name="finger3_seg2_disc">
    <visual>
      <origin rpy="0 0 0" xyz="0 0 0"/>
      <geometry>
        <cylinder length="0.012" radius="0.014062499999999999"/>
      </geometry>
      <material name="finger_seg2_mat">
        <color rgba="0.2 0.9 0.5 1.0"/>
      </material>
    </visual>
    <collision>
      <origin rpy="0 0 0" xyz="0 0 0"/>
      <geometry>
        <cylinder length="0.012" radius="0.014062499999999999"/>
      </geometry>
    </collision>
    <inertial>
      <origin rpy="0 0 0" xyz="0 0 0"/>
      <mass value="0.1"/>
      <inertia ixx="0.0001" ixy="0" ixz="0" iyy="0.0001" iyz="0" izz="0.0001"/>
    </inertial>
  </link>
  <!-- Revolute Joint -->
  <joint name="finger3_seg3_joint" type="revolute">
    <parent link="finger3_seg2_disc"/>
    <child link="finger3_seg3_link"/>
    <origin rpy="0 0 0" xyz="0 0 0"/>
    <axis xyz="0 1 0"/>
    <limit effort="50" lower="-0.0175" upper="0.2094" velocity="1.0"/>
    <mimic joint="finger1_seg1_joint" multiplier="1.0" offset="0.0"/>
    <dynamics damping="0.1" friction="0.0"/>
  </joint>
  <link name="finger3_seg3_link">
    <inertial>
      <origin rpy="0 0 0" xyz="0 0 0"/>
      <mass value="0.01"/>
      <inertia ixx="0.00001" ixy="0" ixz="0" iyy="0.00001" iyz="0" izz="0.00001"/>
    </inertial>
  </link>
  <!-- Fixed H distance to disc -->
  <joint name="finger3_seg3_fixed" type="fixed">
    <parent link="finger3_seg3_link"/>
    <child link="finger3_seg3_disc"/>
    <origin rpy="0 0 0" xyz="0 0 0.022"/>
  </joint>
  <!-- Disc -->
  <link name="finger3_seg3_disc">
    <visual>
      <origin rpy="0 0 0" xyz="0 0 0"/>
      <geometry>
        <cylinder length="0.012" radius="0.013125"/>
      </geometry>
      <material name="finger_seg3_mat">
        <color rgba="0.2 0.9 0.5 1.0"/>
      </material>
    </visual>
    <collision>
      <origin rpy="0 0 0" xyz="0 0 0"/>
      <geometry>
        <cylinder length="0.012" radius="0.013125"/>
      </geometry>
    </collision>
    <inertial>
      <origin rpy="0 0 0" xyz="0 0 0"/>
      <mass value="0.1"/>
      <inertia ixx="0.0001" ixy="0" ixz="0" iyy="0.0001" iyz="0" izz="0.0001"/>
    </inertial>
  </link>
  <!-- Revolute Joint -->
  <joint name="finger3_seg4_joint" type="revolute">
    <parent link="finger3_seg3_disc"/>
    <child link="finger3_seg4_link"/>
    <origin rpy="0 0 0" xyz="0 0 0"/>
    <axis xyz="0 1 0"/>
    <limit effort="50" lower="-0.0175" upper="0.2094" velocity="1.0"/>
    <mimic joint="finger1_seg1_joint" multiplier="1.0" offset="0.0"/>
    <dynamics damping="0.1" friction="0.0"/>
  </joint>
  <link name="finger3_seg4_link">
    <inertial>
      <origin rpy="0 0 0" xyz="0 0 0"/>
      <mass value="0.01"/>
      <inertia ixx="0.00001" ixy="0" ixz="0" iyy="0.00001" iyz="0" izz="0.00001"/>
    </inertial>
  </link>
  <!-- Fixed H distance to disc -->
  <joint name="finger3_seg4_fixed" type="fixed">
    <parent link="finger3_seg4_link"/>
    <child link="finger3_seg4_disc"/>
    <origin rpy="0 0 0" xyz="0 0 0.022"/>
  </joint>
  <!-- Disc -->
  <link name="finger3_seg4_disc">
    <visual>
      <origin rpy="0 0 0" xyz="0 0 0"/>
      <geometry>
        <cylinder length="0.012" radius="0.0121875"/>
      </geometry>
      <material name="finger_seg4_mat">
        <color rgba="0.2 0.9 0.5 1.0"/>
      </material>
    </visual>
    <collision>
      <origin rpy="0 0 0" xyz="0 0 0"/>
      <geometry>
        <cylinder length="0.012" radius="0.0121875"/>
      </geometry>
    </collision>
    <inertial>
      <origin rpy="0 0 0" xyz="0 0 0"/>
      <mass value="0.1"/>
      <inertia ixx="0.0001" ixy="0" ixz="0" iyy="0.0001" iyz="0" izz="0.0001"/>
    </inertial>
  </link>
  <!-- Revolute Joint -->
  <joint name="finger3_seg5_joint" type="revolute">
    <parent link="finger3_seg4_disc"/>
    <child link="finger3_seg5_link"/>
    <origin rpy="0 0 0" xyz="0 0 0"/>
    <axis xyz="0 1 0"/>
    <limit effort="50" lower="-0.0175" upper="0.2094" velocity="1.0"/>
    <mimic joint="finger1_seg1_joint" multiplier="1.0" offset="0.0"/>
    <dynamics damping="0.1" friction="0.0"/>
  </joint>
  <link name="finger3_seg5_link">
    <inertial>
      <origin rpy="0 0 0" xyz="0 0 0"/>
      <mass value="0.01"/>
      <inertia ixx="0.00001" ixy="0" ixz="0" iyy="0.00001" iyz="0" izz="0.00001"/>
    </inertial>
  </link>
  <!-- Fixed H distance to disc -->
  <joint name="finger3_seg5_fixed" type="fixed">
    <parent link="finger3_seg5_link"/>
    <child link="finger3_seg5_disc"/>
    <origin rpy="0 0 0" xyz="0 0 0.022"/>
  </joint>
  <!-- Disc -->
  <link name="finger3_seg5_disc">
    <visual>
      <origin rpy="0 0 0" xyz="0 0 0"/>
      <geometry>
        <cylinder length="0.012" radius="0.01125"/>
      </geometry>
      <material name="finger_seg5_mat">
        <color rgba="0.2 0.9 0.5 1.0"/>
      </material>
    </visual>
    <collision>
      <origin rpy="0 0 0" xyz="0 0 0"/>
      <geometry>
        <cylinder length="0.012" radius="0.01125"/>
      </geometry>
    </collision>
    <inertial>
      <origin rpy="0 0 0" xyz="0 0 0"/>
      <mass value="0.1"/>
      <inertia ixx="0.0001" ixy="0" ixz="0" iyy="0.0001" iyz="0" izz="0.0001"/>
    </inertial>
  </link>
  <!-- Revolute Joint -->
  <joint name="finger3_seg6_joint" type="revolute">
    <parent link="finger3_seg5_disc"/>
    <child link="finger3_seg6_link"/>
    <origin rpy="0 0 0" xyz="0 0 0"/>
    <axis xyz="0 1 0"/>
    <limit effort="50" lower="-0.1047" upper="0.2094" velocity="1.0"/>
    <mimic joint="finger1_seg6_joint" multiplier="1.0" offset="0.0"/>
    <dynamics damping="0.1" friction="0.0"/>
  </joint>
  <link name="finger3_seg6_link">
    <inertial>
      <origin rpy="0 0 0" xyz="0 0 0"/>
      <mass value="0.01"/>
      <inertia ixx="0.00001" ixy="0" ixz="0" iyy="0.00001" iyz="0" izz="0.00001"/>
    </inertial>
  </link>
  <!-- Fixed H distance to disc -->
  <joint name="finger3_seg6_fixed" type="fixed">
    <parent link="finger3_seg6_link"/>
    <child link="finger3_seg6_disc"/>
    <origin rpy="0 0 0" xyz="0 0 0.022"/>
  </joint>
  <!-- Disc -->
  <link name="finger3_seg6_disc">
    <visual>
      <origin rpy="0 0 0" xyz="0 0 0"/>
      <geometry>
        <cylinder length="0.012" radius="0.01125"/>
      </geometry>
      <material name="finger_seg6_mat">
        <color rgba="0.2 0.8 0.9 1.0"/>
      </material>
    </visual>
    <collision>
      <origin rpy="0 0 0" xyz="0 0 0"/>
      <geometry>
        <cylinder length="0.012" radius="0.01125"/>
      </geometry>
    </collision>
    <inertial>
      <origin rpy="0 0 0" xyz="0 0 0"/>
      <mass value="0.1"/>
      <inertia ixx="0.0001" ixy="0" ixz="0" iyy="0.0001" iyz="0" izz="0.0001"/>
    </inertial>
  </link>
  <!-- Revolute Joint -->
  <joint name="finger3_seg7_joint" type="revolute">
    <parent link="finger3_seg6_disc"/>
    <child link="finger3_seg7_link"/>
    <origin rpy="0 0 0" xyz="0 0 0"/>
    <axis xyz="0 1 0"/>
    <limit effort="50" lower="-0.1047" upper="0.2094" velocity="1.0"/>
    <mimic joint="finger1_seg6_joint" multiplier="1.0" offset="0.0"/>
    <dynamics damping="0.1" friction="0.0"/>
  </joint>
  <link name="finger3_seg7_link">
    <inertial>
      <origin rpy="0 0 0" xyz="0 0 0"/>
      <mass value="0.01"/>
      <inertia ixx="0.00001" ixy="0" ixz="0" iyy="0.00001" iyz="0" izz="0.00001"/>
    </inertial>
  </link>
  <!-- Fixed H distance to disc -->
  <joint name="finger3_seg7_fixed" type="fixed">
    <parent link="finger3_seg7_link"/>
    <child link="finger3_seg7_disc"/>
    <origin rpy="0 0 0" xyz="0 0 0.022"/>
  </joint>
  <!-- Disc -->
  <link name="finger3_seg7_disc">
    <visual>
      <origin rpy="0 0 0" xyz="0 0 0"/>
      <geometry>
        <cylinder length="0.012" radius="0.010312499999999999"/>
      </geometry>
      <material name="finger_seg7_mat">
        <color rgba="0.2 0.8 0.9 1.0"/>
      </material>
    </visual>
    <collision>
      <origin rpy="0 0 0" xyz="0 0 0"/>
      <geometry>
        <cylinder length="0.012" radius="0.010312499999999999"/>
      </geometry>
    </collision>
    <inertial>
      <origin rpy="0 0 0" xyz="0 0 0"/>
      <mass value="0.1"/>
      <inertia ixx="0.0001" ixy="0" ixz="0" iyy="0.0001" iyz="0" izz="0.0001"/>
    </inertial>
  </link>
  <!-- Revolute Joint -->
  <joint name="finger3_seg8_joint" type="revolute">
    <parent link="finger3_seg7_disc"/>
    <child link="finger3_seg8_link"/>
    <origin rpy="0 0 0" xyz="0 0 0"/>
    <axis xyz="0 1 0"/>
    <limit effort="50" lower="-0.1047" upper="0.2094" velocity="1.0"/>
    <mimic joint="finger1_seg6_joint" multiplier="1.0" offset="0.0"/>
    <dynamics damping="0.1" friction="0.0"/>
  </joint>
  <link name="finger3_seg8_link">
    <inertial>
      <origin rpy="0 0 0" xyz="0 0 0"/>
      <mass value="0.01"/>
      <inertia ixx="0.00001" ixy="0" ixz="0" iyy="0.00001" iyz="0" izz="0.00001"/>
    </inertial>
  </link>
  <!-- Fixed H distance to disc -->
  <joint name="finger3_seg8_fixed" type="fixed">
    <parent link="finger3_seg8_link"/>
    <child link="finger3_seg8_disc"/>
    <origin rpy="0 0 0" xyz="0 0 0.022"/>
  </joint>
  <!-- Disc -->
  <link name="finger3_seg8_disc">
    <visual>
      <origin rpy="0 0 0" xyz="0 0 0"/>
      <geometry>
        <cylinder length="0.012" radius="0.009375"/>
      </geometry>
      <material name="finger_seg8_mat">
        <color rgba="0.2 0.8 0.9 1.0"/>
      </material>
    </visual>
    <collision>
      <origin rpy="0 0 0" xyz="0 0 0"/>
      <geometry>
        <cylinder length="0.012" radius="0.009375"/>
      </geometry>
    </collision>
    <inertial>
      <origin rpy="0 0 0" xyz="0 0 0"/>
      <mass value="0.1"/>
      <inertia ixx="0.0001" ixy="0" ixz="0" iyy="0.0001" iyz="0" izz="0.0001"/>
    </inertial>
  </link>
  <!-- Revolute Joint -->
  <joint name="finger3_seg9_joint" type="revolute">
    <parent link="finger3_seg8_disc"/>
    <child link="finger3_seg9_link"/>
    <origin rpy="0 0 0" xyz="0 0 0"/>
    <axis xyz="0 1 0"/>
    <limit effort="50" lower="-0.1047" upper="0.2094" velocity="1.0"/>
    <mimic joint="finger1_seg6_joint" multiplier="1.0" offset="0.0"/>
    <dynamics damping="0.1" friction="0.0"/>
  </joint>
  <link name="finger3_seg9_link">
    <inertial>
      <origin rpy="0 0 0" xyz="0 0 0"/>
      <mass value="0.01"/>
      <inertia ixx="0.00001" ixy="0" ixz="0" iyy="0.00001" iyz="0" izz="0.00001"/>
    </inertial>
  </link>
  <!-- Fixed H distance to disc -->
  <joint name="finger3_seg9_fixed" type="fixed">
    <parent link="finger3_seg9_link"/>
    <child link="finger3_seg9_disc"/>
    <origin rpy="0 0 0" xyz="0 0 0.022"/>
  </joint>
  <!-- Disc -->
  <link name="finger3_seg9_disc">
    <visual>
      <origin rpy="0 0 0" xyz="0 0 0"/>
      <geometry>
        <cylinder length="0.012" radius="0.0084375"/>
      </geometry>
      <material name="finger_seg9_mat">
        <color rgba="0.2 0.8 0.9 1.0"/>
      </material>
    </visual>
    <collision>
      <origin rpy="0 0 0" xyz="0 0 0"/>
      <geometry>
        <cylinder length="0.012" radius="0.0084375"/>
      </geometry>
    </collision>
    <inertial>
      <origin rpy="0 0 0" xyz="0 0 0"/>
      <mass value="0.1"/>
      <inertia ixx="0.0001" ixy="0" ixz="0" iyy="0.0001" iyz="0" izz="0.0001"/>
    </inertial>
  </link>
  <!-- Revolute Joint -->
  <joint name="finger3_seg10_joint" type="revolute">
    <parent link="finger3_seg9_disc"/>
    <child link="finger3_seg10_link"/>
    <origin rpy="0 0 0" xyz="0 0 0"/>
    <axis xyz="0 1 0"/>
    <limit effort="50" lower="-0.1047" upper="0.2094" velocity="1.0"/>
    <mimic joint="finger1_seg6_joint" multiplier="1.0" offset="0.0"/>
    <dynamics damping="0.1" friction="0.0"/>
  </joint>
  <link name="finger3_seg10_link">
    <inertial>
      <origin rpy="0 0 0" xyz="0 0 0"/>
      <mass value="0.01"/>
      <inertia ixx="0.00001" ixy="0" ixz="0" iyy="0.00001" iyz="0" izz="0.00001"/>
    </inertial>
  </link>
  <!-- Fixed H distance to disc -->
  <joint name="finger3_seg10_fixed" type="fixed">
    <parent link="finger3_seg10_link"/>
    <child link="finger3_seg10_disc"/>
    <origin rpy="0 0 0" xyz="0 0 0.022"/>
  </joint>
  <!-- Disc -->
  <link name="finger3_seg10_disc">
    <visual>
      <origin rpy="0 0 0" xyz="0 0 0"/>
      <geometry>
        <cylinder length="0.012" radius="0.0075"/>
      </geometry>
      <material name="finger_seg10_mat">
        <color rgba="0.2 0.8 0.9 1.0"/>
      </material>
    </visual>
    <collision>
      <origin rpy="0 0 0" xyz="0 0 0"/>
      <geometry>
        <cylinder length="0.012" radius="0.0075"/>
      </geometry>
    </collision>
    <inertial>
      <origin rpy="0 0 0" xyz="0 0 0"/>
      <mass value="0.1"/>
      <inertia ixx="0.0001" ixy="0" ixz="0" iyy="0.0001" iyz="0" izz="0.0001"/>
    </inertial>
  </link>
</robot>
